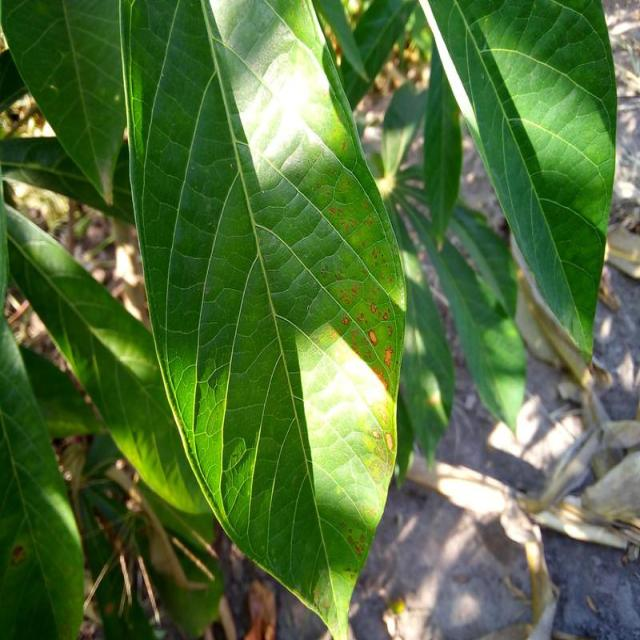cassava leaf: (117, 0, 408, 637), (418, 0, 618, 368)
